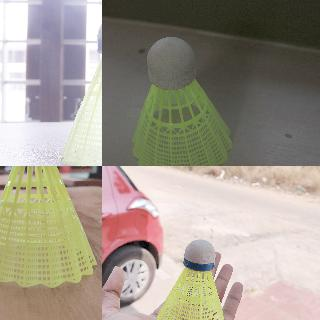shuttlecock: (132, 38, 233, 165), (0, 166, 97, 288), (61, 13, 101, 165), (154, 239, 226, 319)
